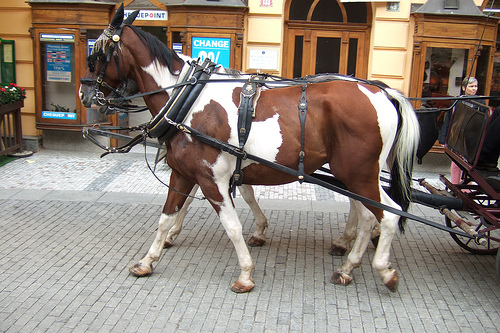horse: (85, 3, 425, 297)
